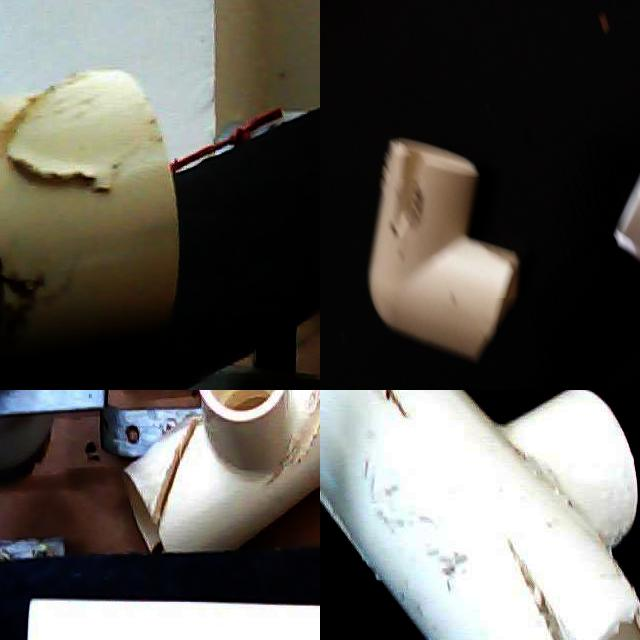Defective: (8, 72, 149, 197), (511, 550, 611, 640), (149, 431, 221, 538), (320, 456, 380, 580), (348, 390, 428, 451), (254, 438, 308, 498), (515, 8, 568, 48), (619, 583, 640, 640)
L Joint: (399, 0, 570, 179), (449, 299, 590, 390)
T Joint: (320, 390, 640, 640)
